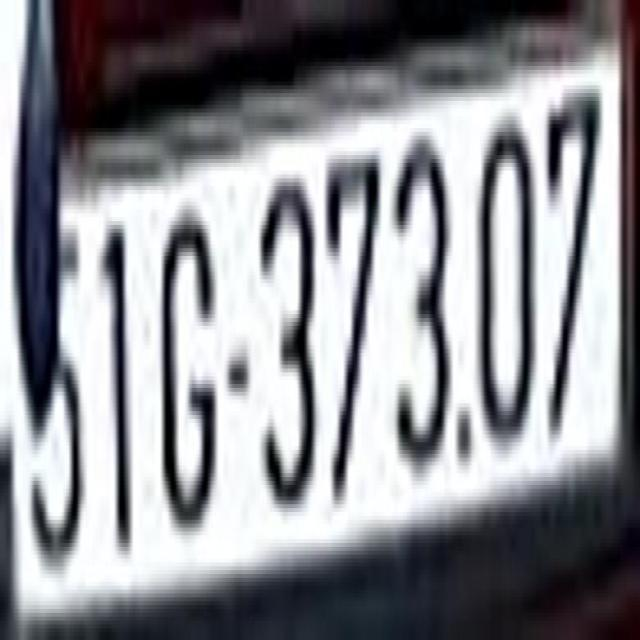0: (480, 120, 538, 450)
1: (98, 213, 134, 551)
3: (260, 170, 318, 528), (391, 147, 448, 489)
5: (26, 217, 81, 586)
7: (543, 101, 607, 446), (323, 159, 377, 489)
G: (158, 206, 219, 520)
